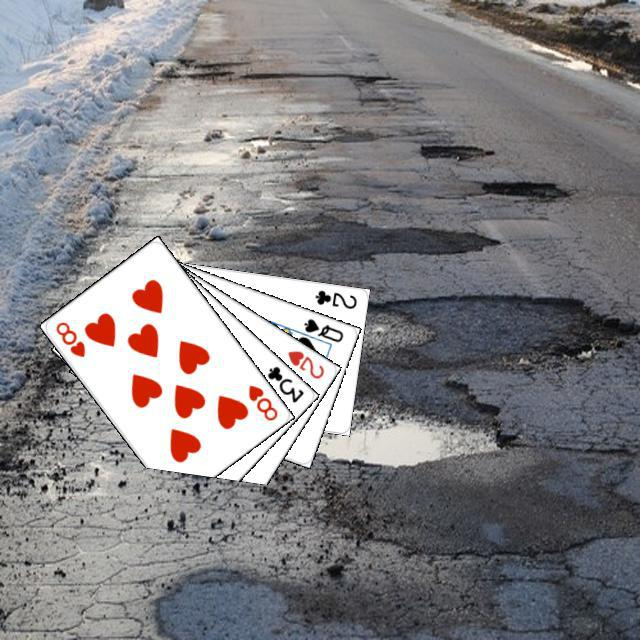2c: (310, 285, 358, 311)
2h: (283, 346, 326, 381)
3c: (262, 361, 306, 404)
8h: (243, 380, 279, 423), (51, 317, 87, 359)
Qs: (299, 314, 345, 344)
